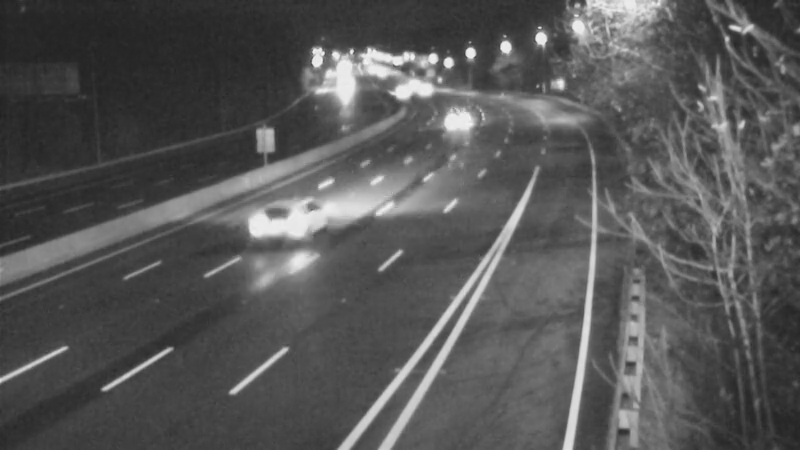vehicle: (242, 177, 322, 257), (386, 61, 436, 111), (397, 64, 447, 114), (373, 66, 423, 116), (429, 96, 479, 146), (321, 62, 371, 112)
